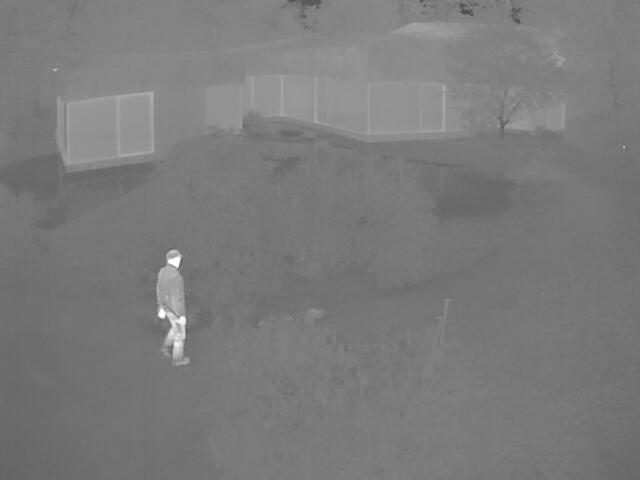person: (154, 248, 192, 366)
